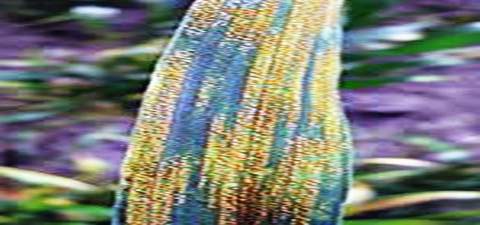Leaf Rust: (130, 18, 335, 208)
